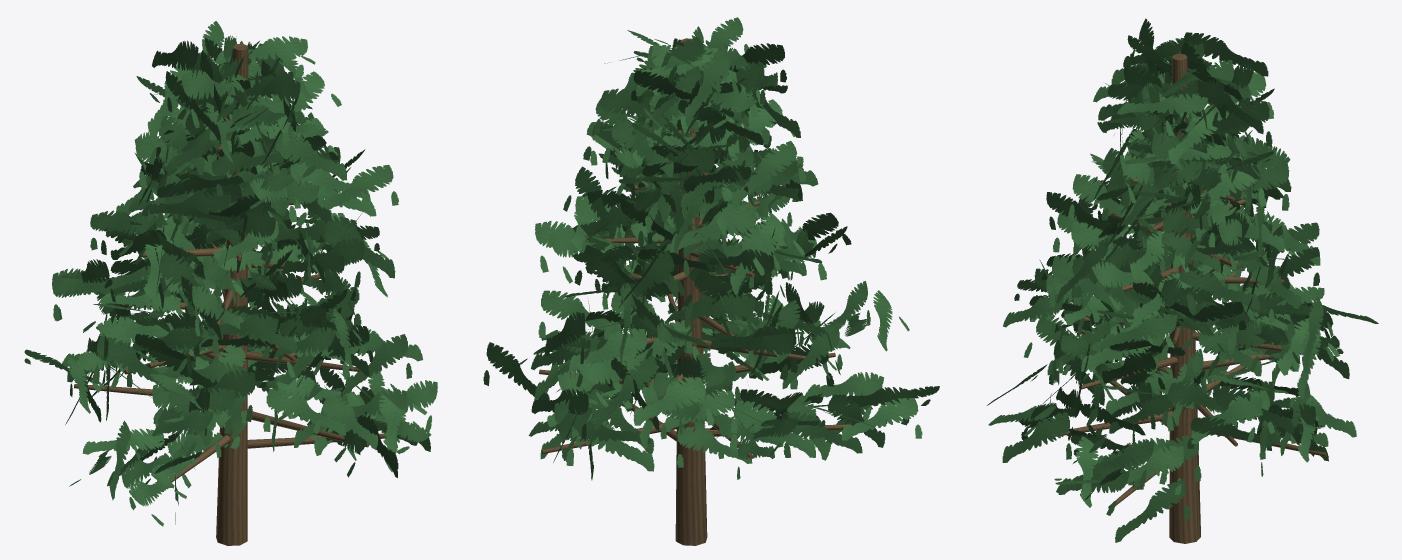
3 renders of one model, left to right at view 1: azimuth 30°, elevation 25°; view 2: azimuth 150°, elevation 25°; view 3: azimuth 270°, elevation 25°, orthographic. The views are drawn at different scales.
Visible parts, largest first — view 1: pine-needle, pine-bark; view 2: pine-needle, pine-bark; view 3: pine-needle, pine-bark.
Boxes of the visible parts, left/top/right/bottom form: pine-needle: left=24, top=21, right=437, bottom=526; pine-bark: left=74, top=44, right=407, bottom=545; pine-needle: left=483, top=17, right=939, bottom=480; pine-bark: left=539, top=38, right=850, bottom=545; pine-needle: left=987, top=18, right=1378, bottom=542; pine-bark: left=1046, top=53, right=1326, bottom=543.
Size of the model in its own units: 8.06 by 10.26 by 7.64.
2 materials, 2 textured.
